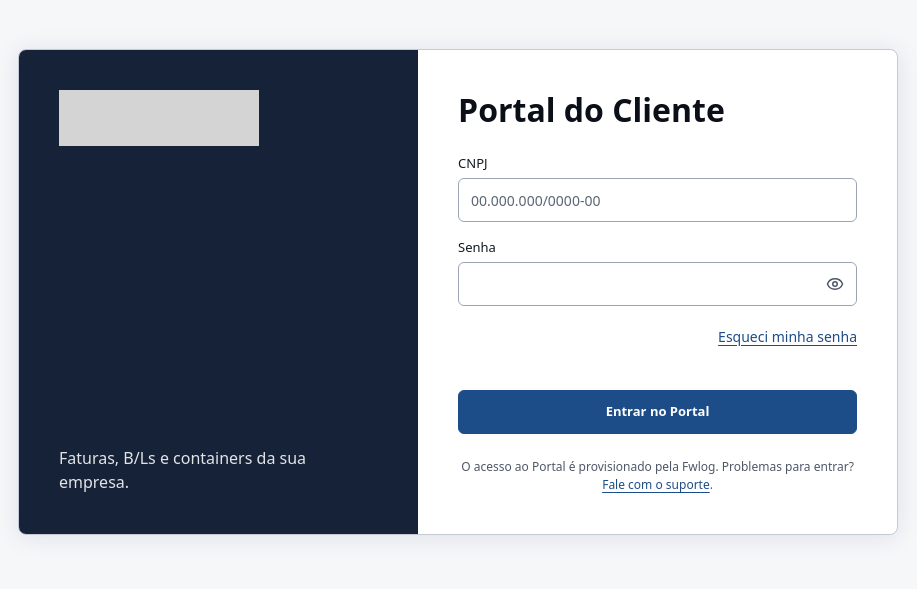
Test case: CNPJ incompleto para no cliente, com mensagem propria, sem tentar autenticar
The image size is (917, 589).
Type "12.345.678" into the field with placeholder "00.000.000/0000-00".
click(658, 200); type("12.345.678")  # box 458,178 -> 857,222
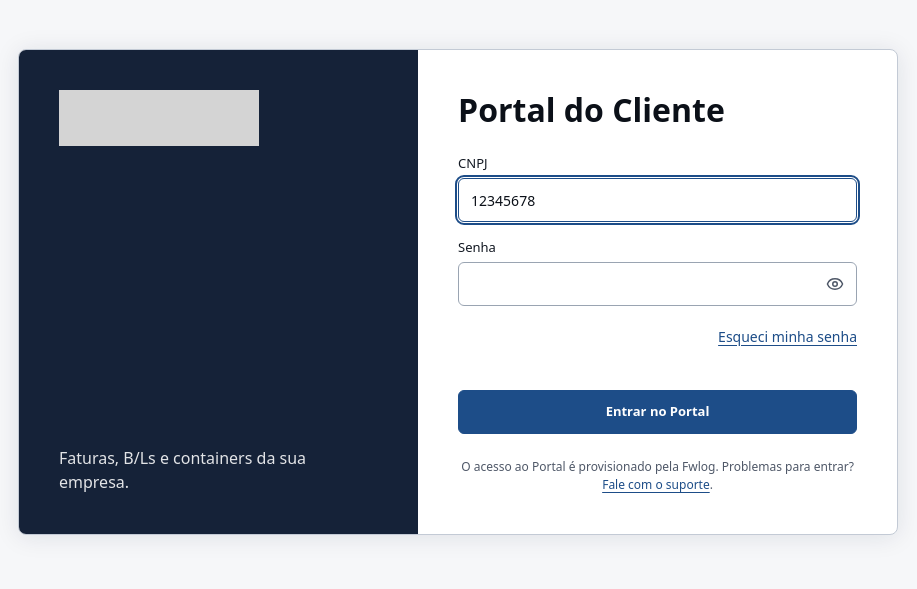
Type "senha-secreta" into the password field labelled "Senha".
click(658, 284); type("senha-secreta")  # box 458,262 -> 857,306
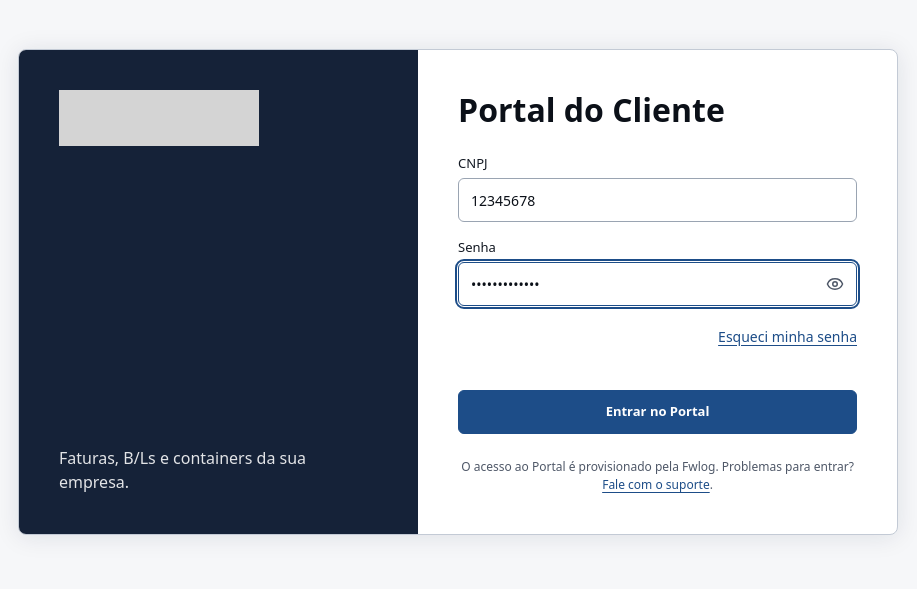
Click the button "Entrar no Portal".
click(658, 412)  # box 458,390 -> 857,434
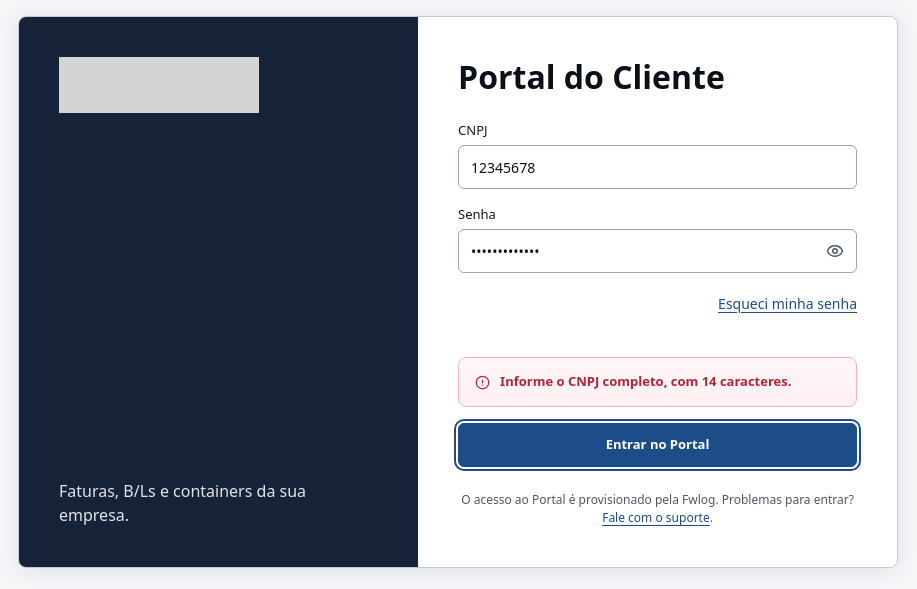
Expected: the text "Informe o CNPJ completo, com 14 caracteres." is shown, 458,357 -> 857,407
